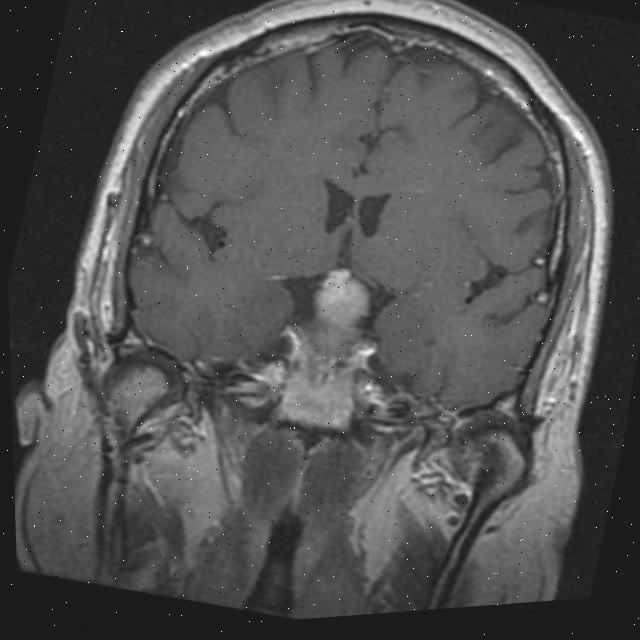Pituitary: (268, 314, 383, 441), (307, 260, 380, 337)
